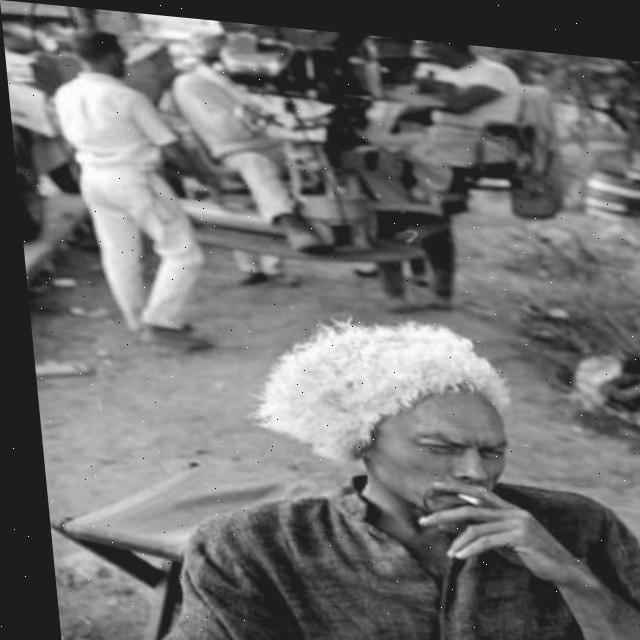cigarette: (444, 483, 475, 498)
